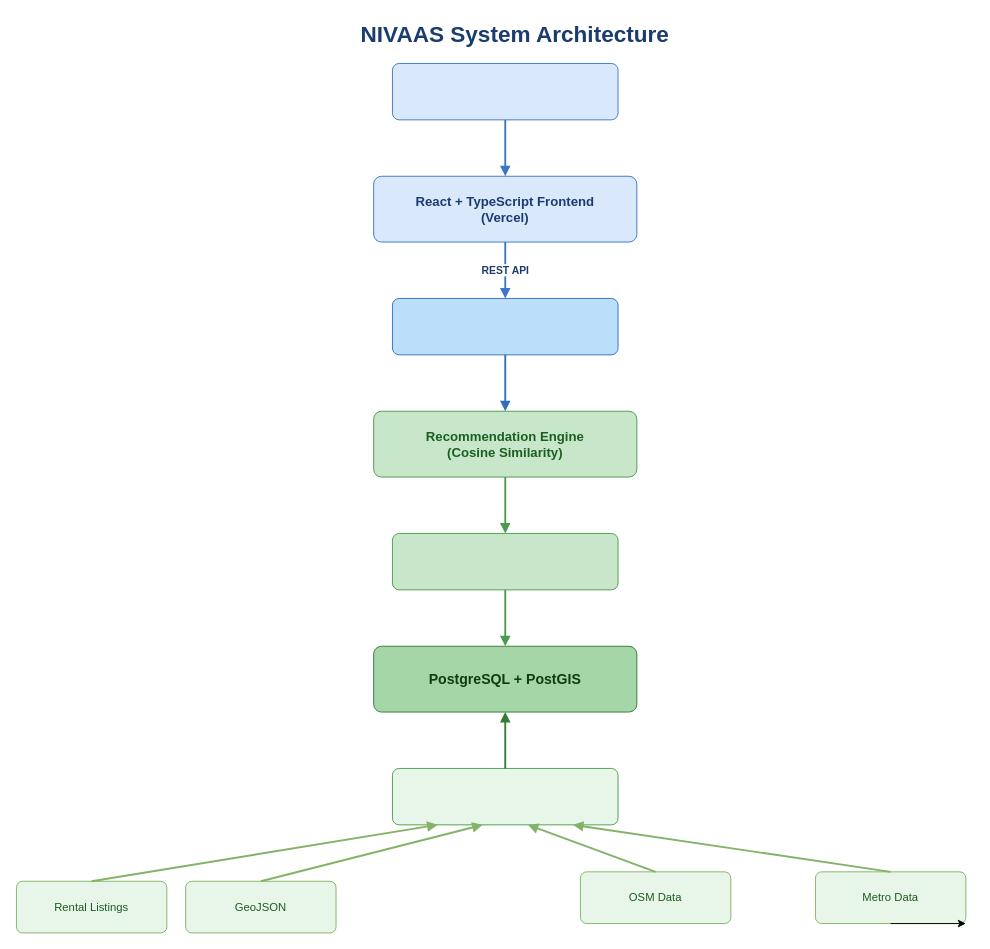
This 990x949 diagram has some shape labels left out. Each missing label, with the centre of its shape:
"ETL Pipelines" goes at pixel 505 796.
"FastAPI Backend" goes at pixel 505 326.
"Feature Store" goes at pixel 505 561.
"User" goes at pixel 505 91.
